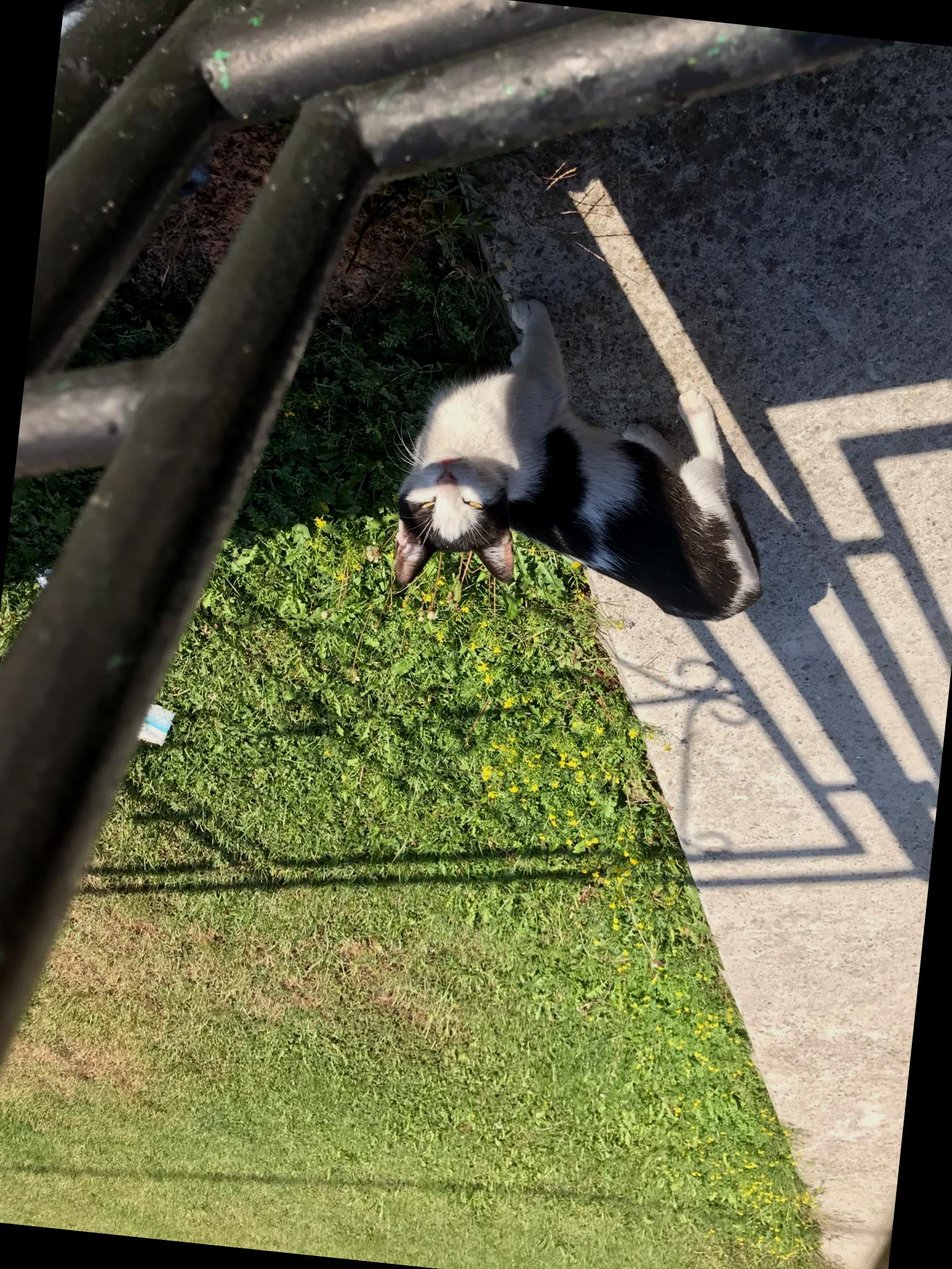macka: (386, 288, 793, 628)
